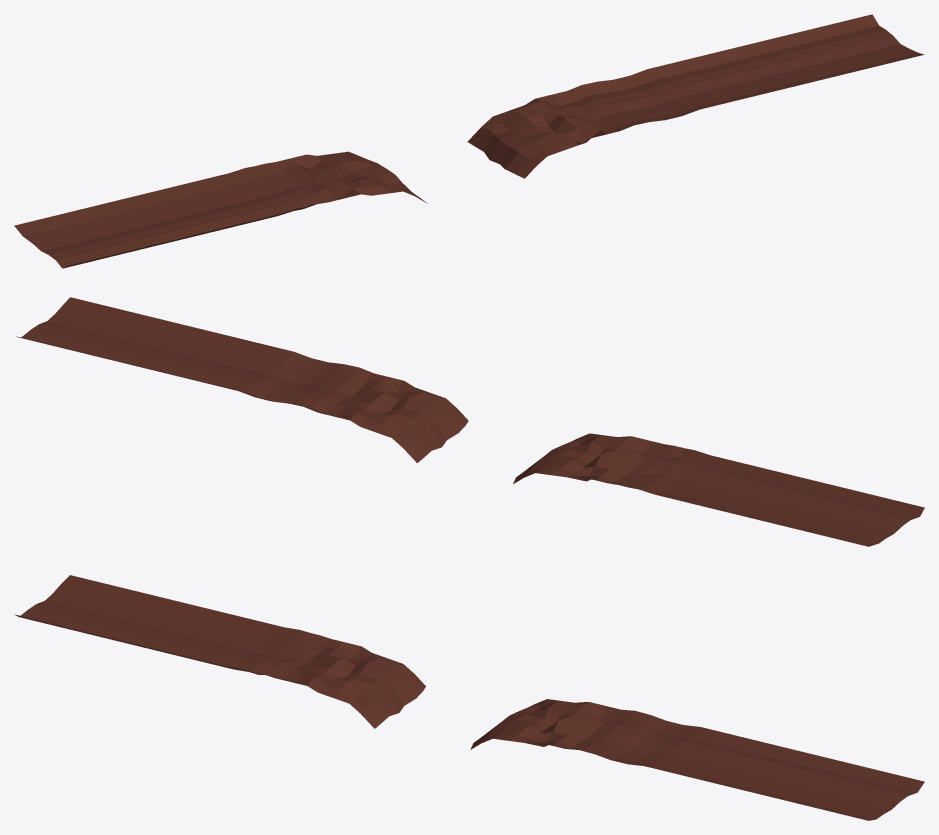
The model's file is side_ground.glb.
3 views of the same model, one above another, from view 1: azimuth 30°, elevation 25°; view 2: azimuth 150°, elevation 25°; view 3: azimuth 330°, elevation 25° (orthographic).
Parts seen in each view (by area): view 1: Plane; view 2: Plane; view 3: Plane.
Part boxes in pixels (bbox=[...]): Plane: bbox=[14, 14, 924, 268]; Plane: bbox=[16, 297, 924, 546]; Plane: bbox=[15, 575, 924, 820].
Bounding box in the file's own units: 18.23 × 0.6212 × 2.
